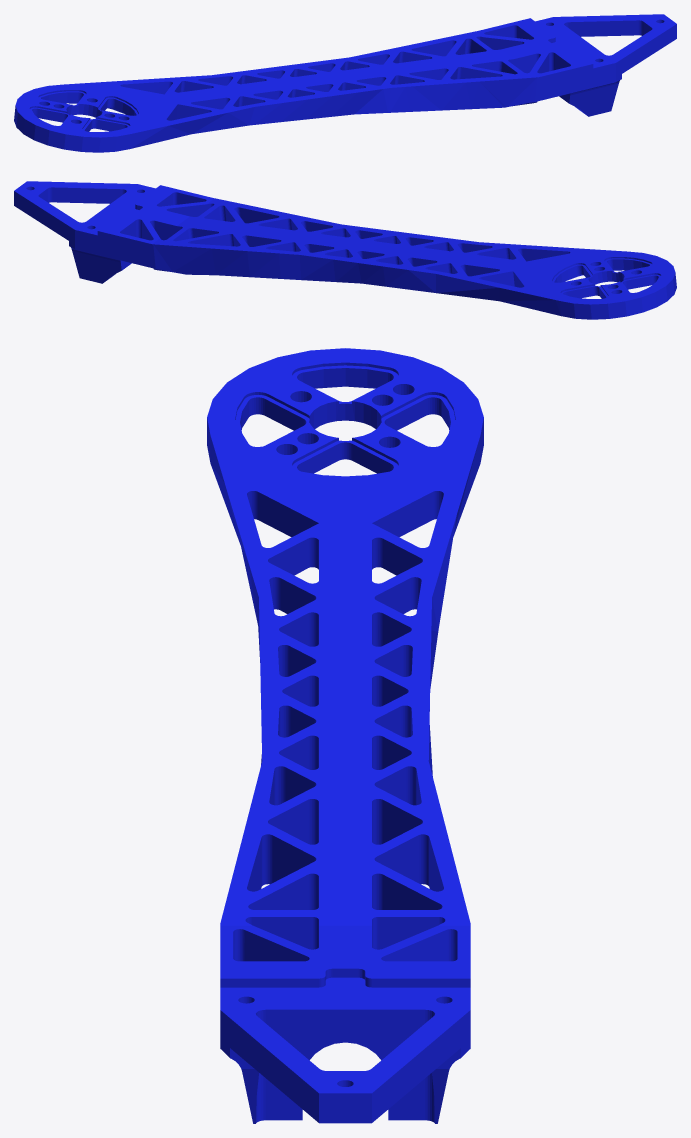
The model's file is Arm_Blue_01_Arm_Blue.obj.
The picture shows the model from 3 angles, top to bottom: view 1: azimuth 30°, elevation 25°; view 2: azimuth 150°, elevation 25°; view 3: azimuth 270°, elevation 25°; orthographic projection. The views are drawn at different scales.
Bounding box in the file's own units: 0.2266 × 0.0378 × 0.042.
